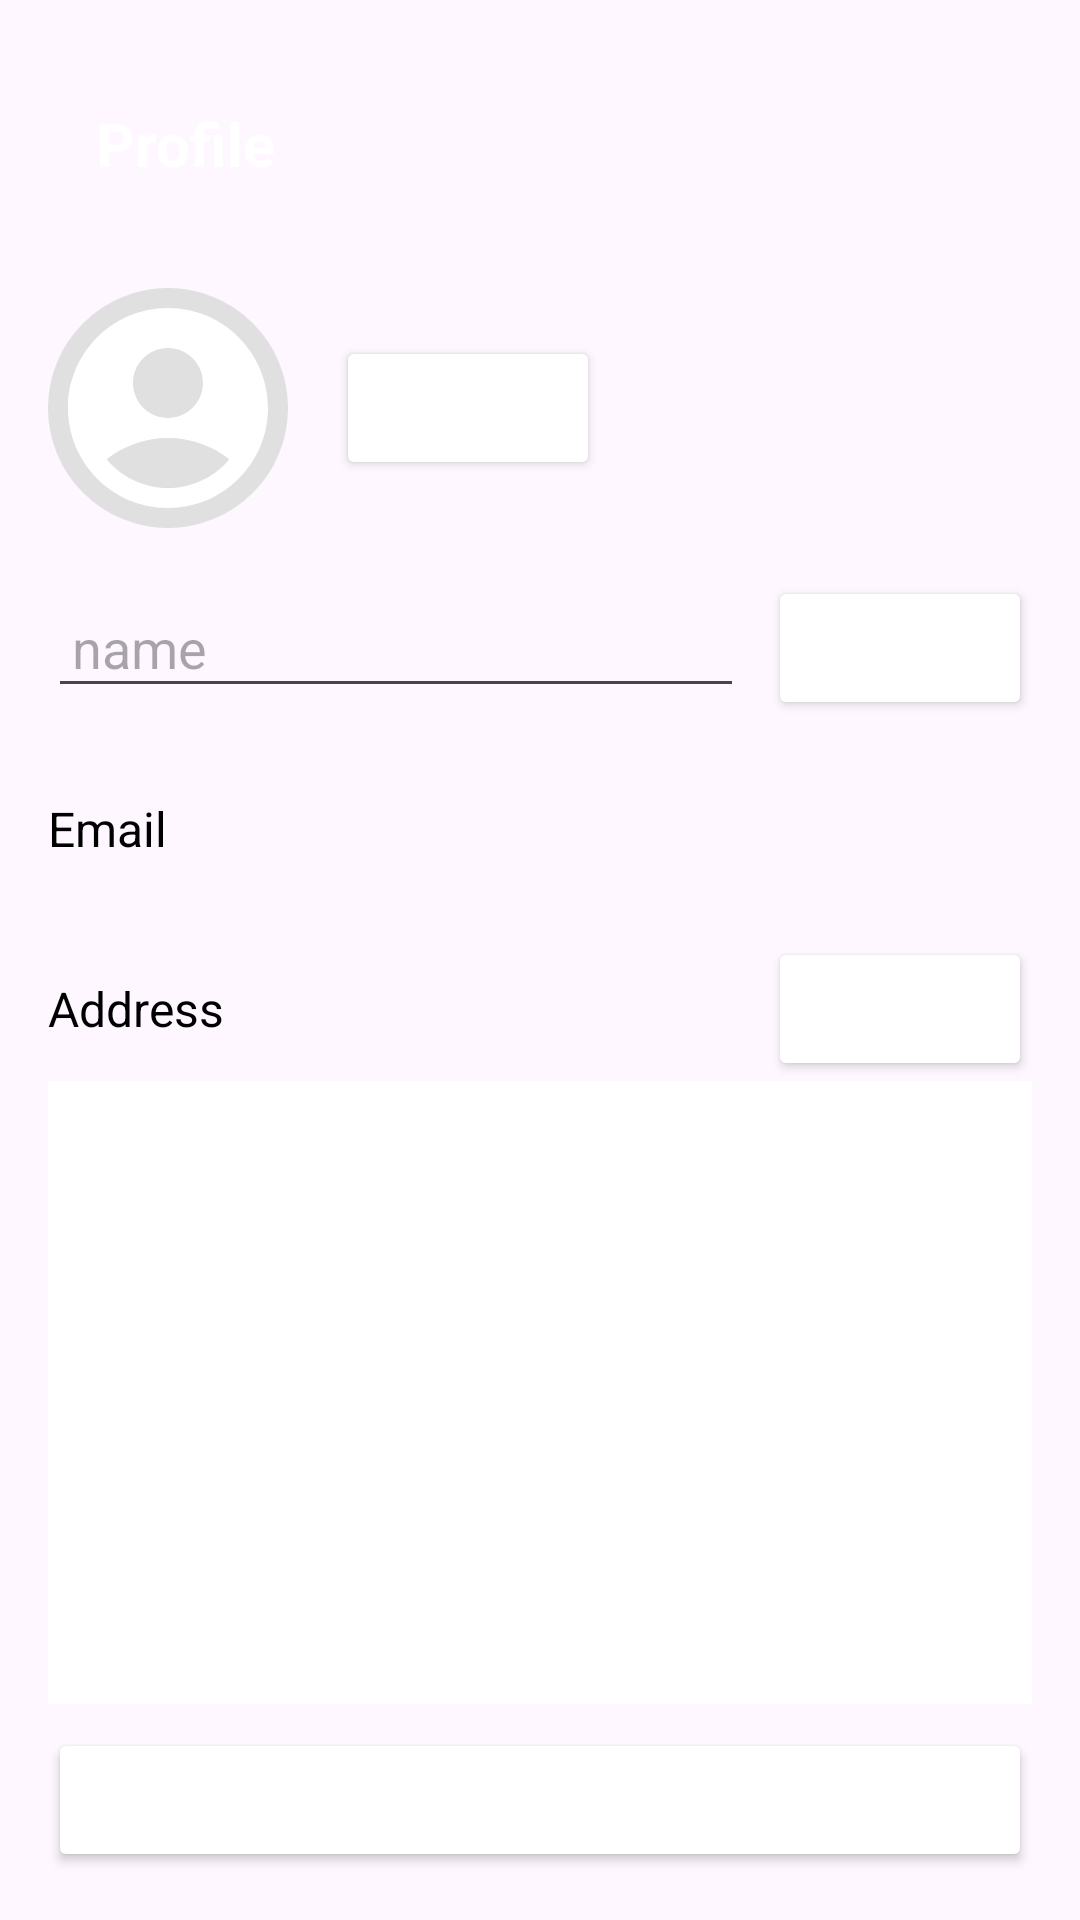

Icon bounding boxes for this 1080*1920 phone screenshot, format (x1, y1, x2, y2):
account circle: (48, 288, 288, 528)
